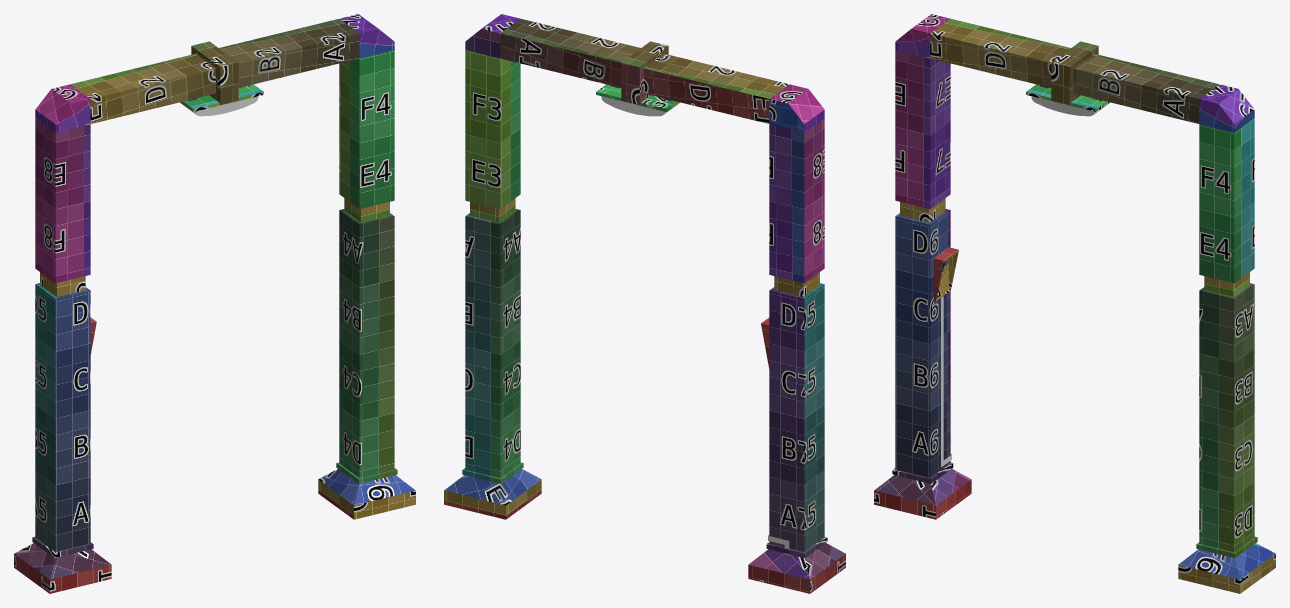
The model's file is LightPost.glb.
3 views of the same model, side by side, from view 1: azimuth 30°, elevation 25°; view 2: azimuth 150°, elevation 25°; view 3: azimuth 330°, elevation 25° (orthographic).
Visible parts, largest first — view 1: Plane; view 2: Plane; view 3: Plane.
Boxes of the visible parts, bbox=[...] form: Plane: bbox=[14, 14, 415, 593]; Plane: bbox=[444, 14, 845, 593]; Plane: bbox=[874, 14, 1275, 593].
Size of what is drawn, in the model's own units: 2.41 by 3.03 by 0.4073.
3 materials, 1 textured.
